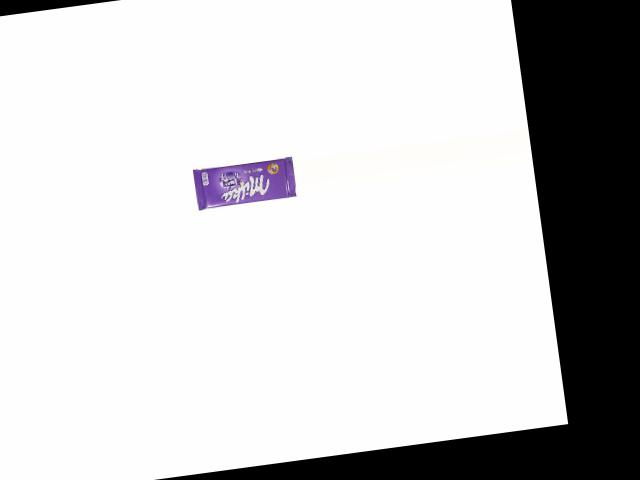chocolate: (186, 151, 298, 213)
